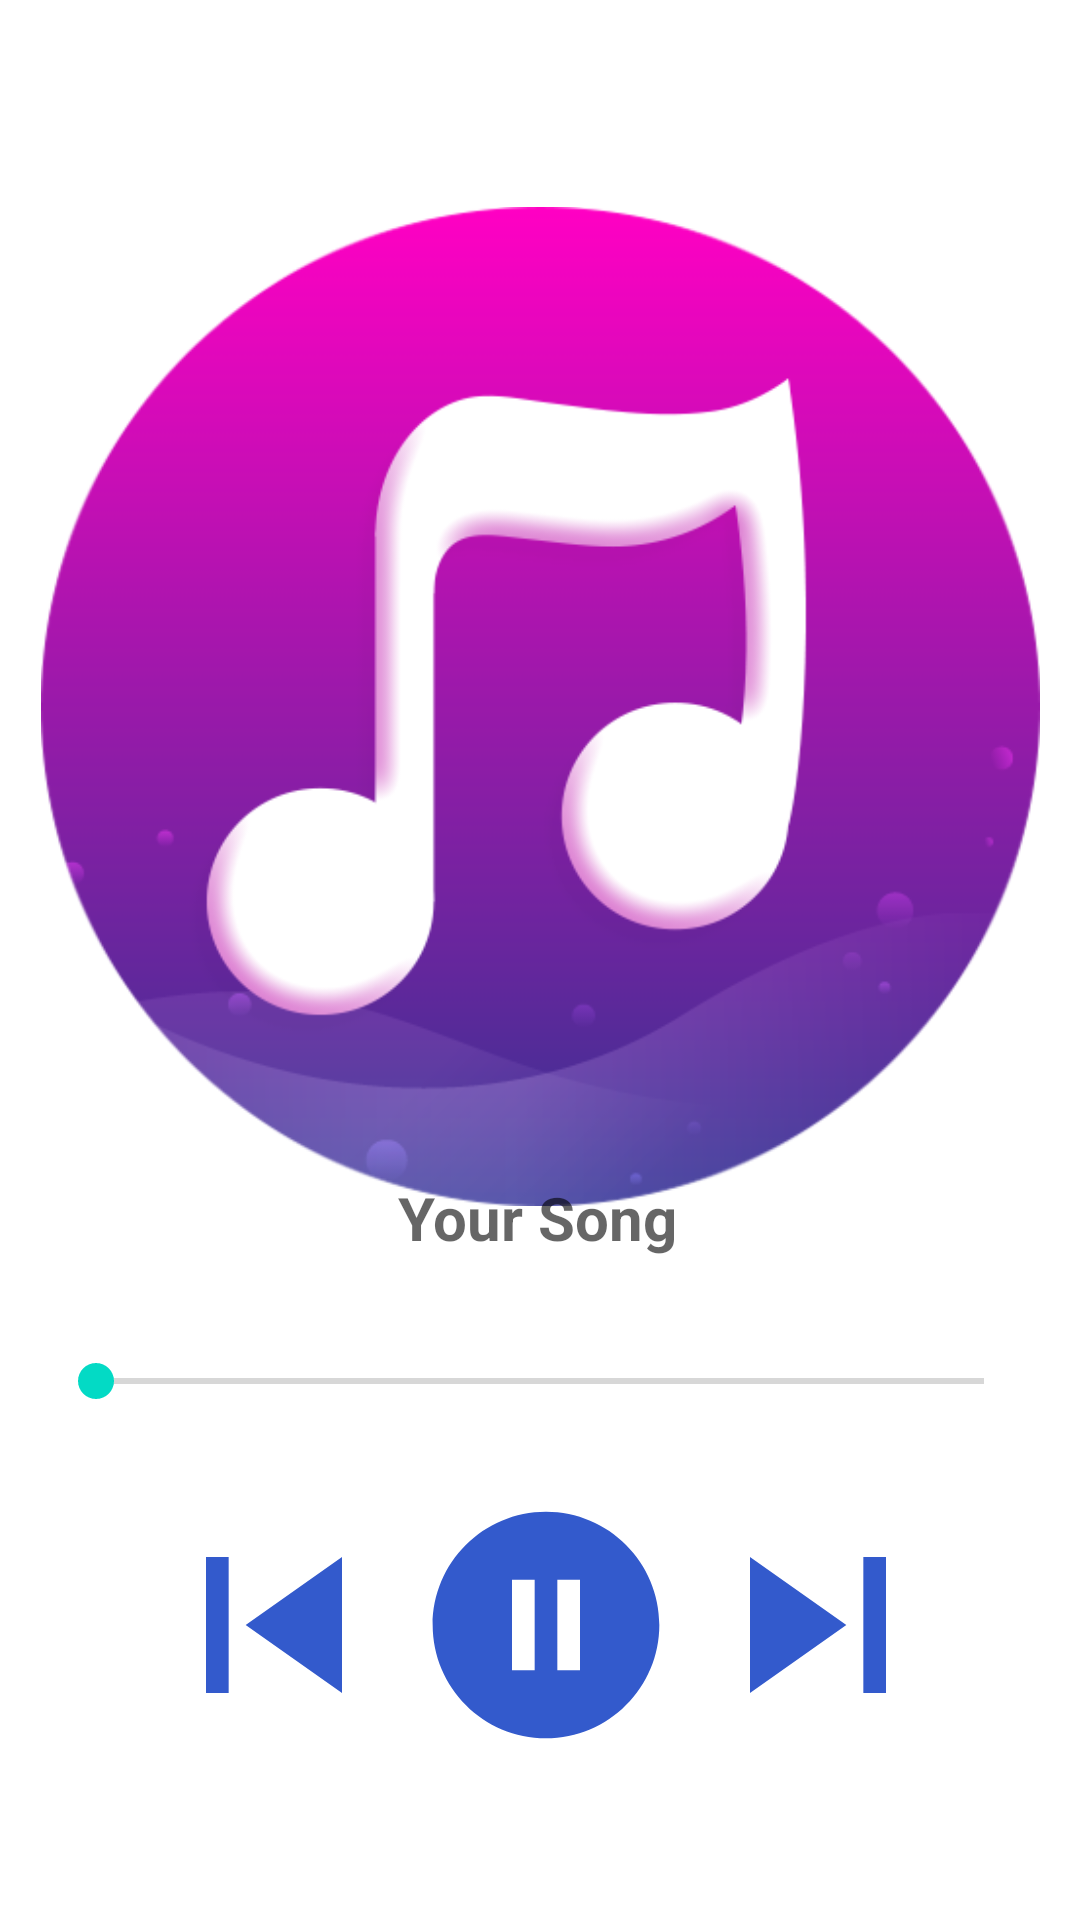

Icon bounding boxes for this 1080 x 1920 phone screenshot, format [x1, y1, x2, y2]:
next: [750, 1557, 886, 1693]
pause: [432, 1511, 660, 1739]
prev: [206, 1557, 342, 1693]
